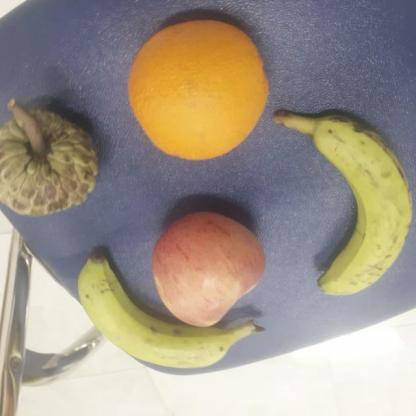annona: (0, 102, 98, 224)
apple: (149, 212, 268, 328)
banana: (310, 114, 416, 307)
orange: (125, 16, 270, 162)
